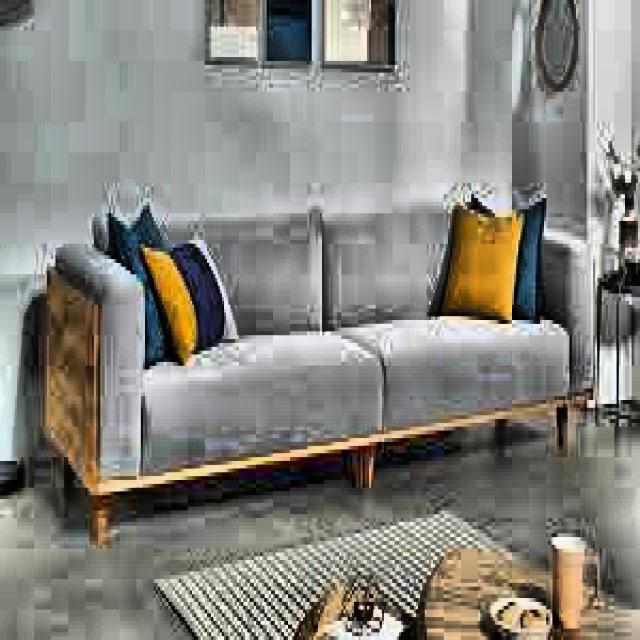sofa: (24, 191, 593, 518)
